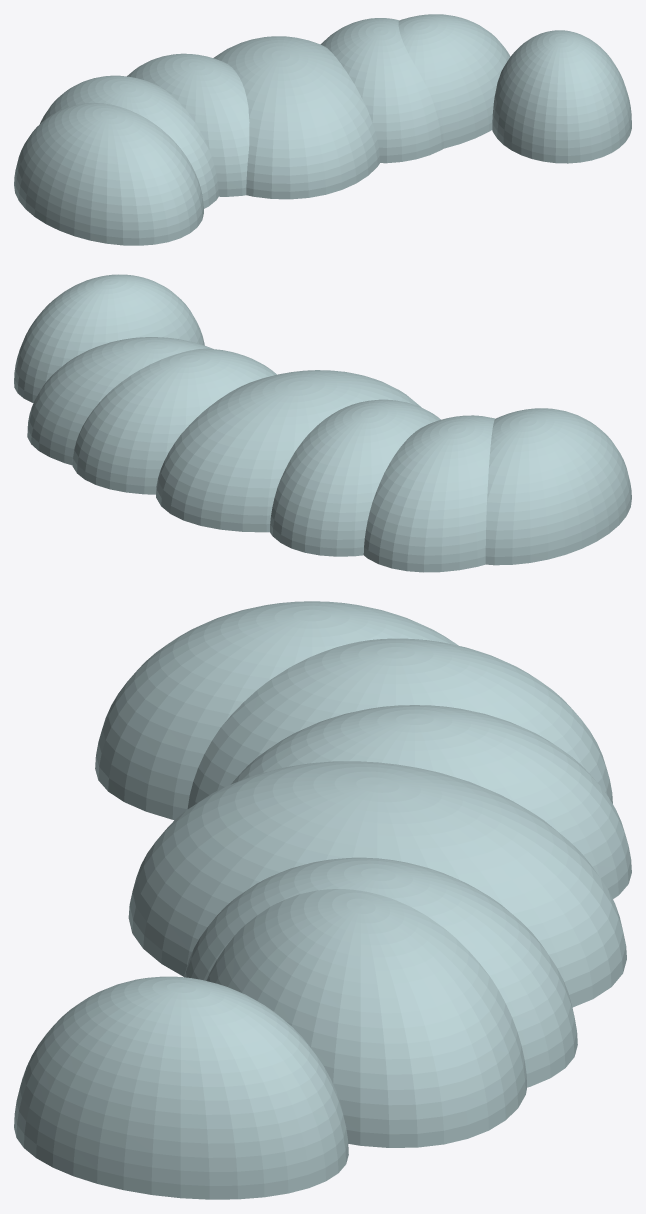
The model's file is rockes.glb.
The picture shows the model from 3 angles, top to bottom: view 1: azimuth 30°, elevation 25°; view 2: azimuth 150°, elevation 25°; view 3: azimuth 270°, elevation 25°; orthographic projection. The views are drawn at different scales.
Visible parts, largest first — view 1: Mesh_Mesh_head_geo.001_lambert2SG.001; view 2: Mesh_Mesh_head_geo.001_lambert2SG.001; view 3: Mesh_Mesh_head_geo.001_lambert2SG.001.
Part boxes in pixels (x1,y1,x2,y2): Mesh_Mesh_head_geo.001_lambert2SG.001: (14, 14, 631, 245); Mesh_Mesh_head_geo.001_lambert2SG.001: (14, 274, 631, 572); Mesh_Mesh_head_geo.001_lambert2SG.001: (14, 601, 631, 1199).
Size of the model in its own units: 187 by 27 by 98.22.
